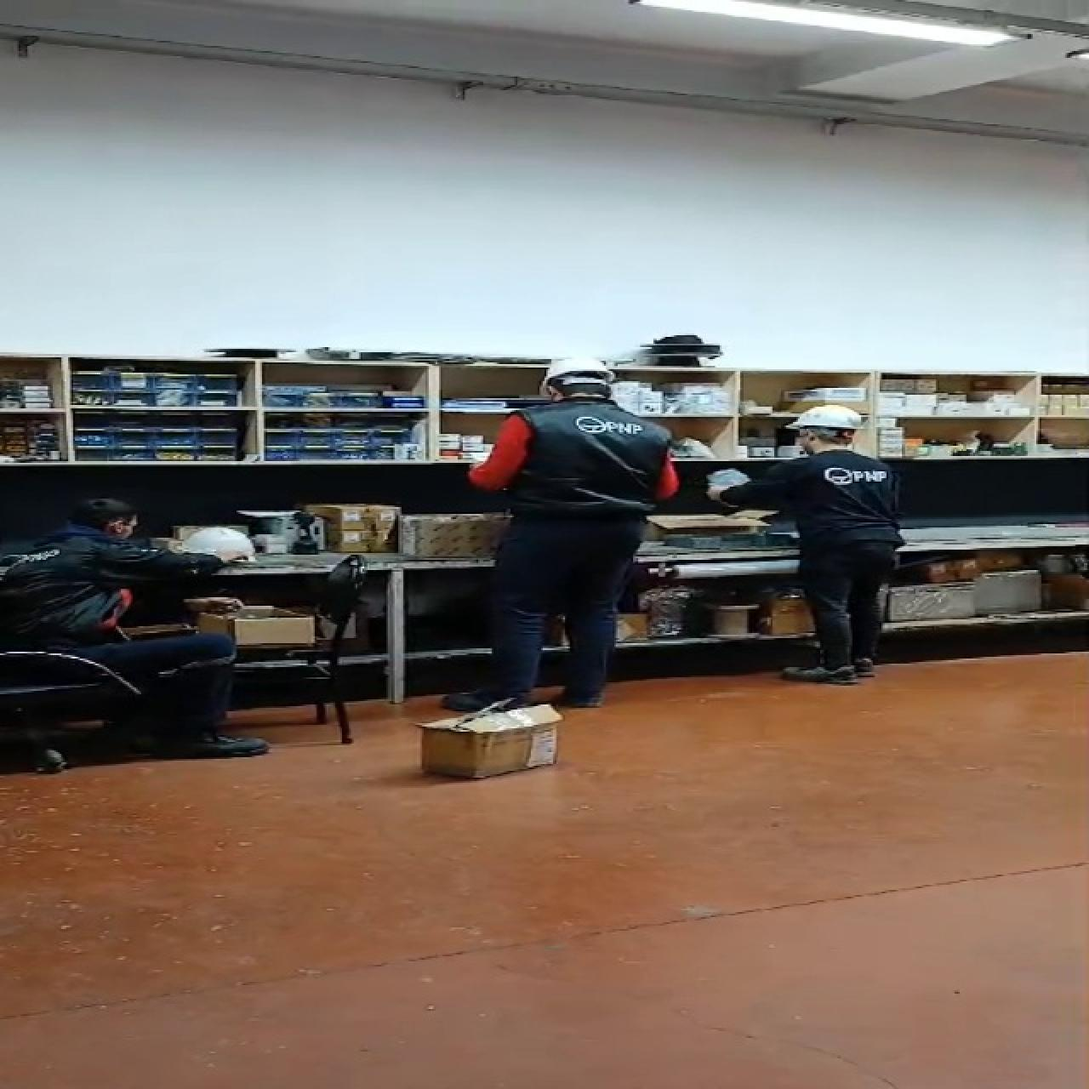NO_Safety_Vest: (519, 405, 669, 528), (1, 529, 126, 652), (791, 452, 902, 547)
Person: (450, 342, 679, 713), (0, 477, 283, 767), (705, 393, 909, 690)
